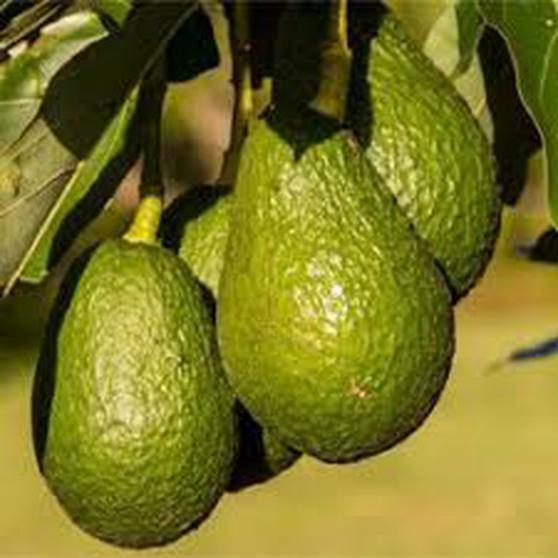avocado: (24, 224, 248, 551)
